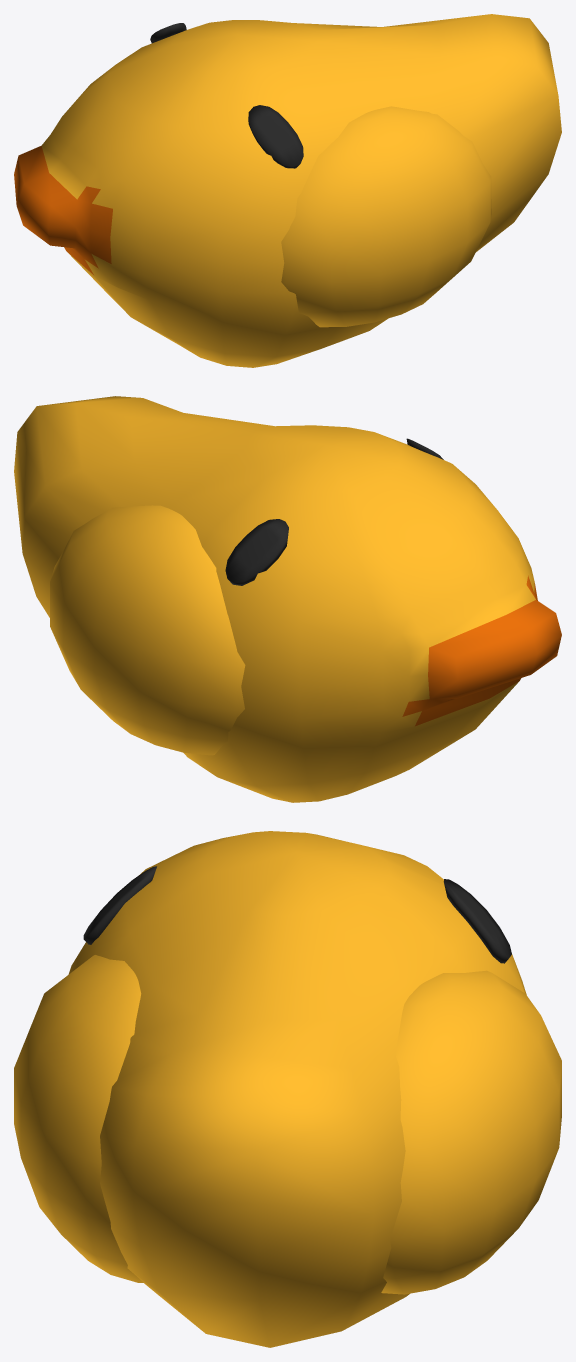
Rendered from Farmhouse_ROOM_duck_v02.glb.
3 renders of one model, top to bottom at view 1: azimuth 30°, elevation 25°; view 2: azimuth 150°, elevation 25°; view 3: azimuth 270°, elevation 25°, orthographic. The views are drawn at different scales.
Parts seen in each view (by area): view 1: Farmhouse_ROOM_duck_v02; view 2: Farmhouse_ROOM_duck_v02; view 3: Farmhouse_ROOM_duck_v02.
Part boxes in pixels (x1=…): Farmhouse_ROOM_duck_v02: x1=14, y1=14, x2=561, y2=367; Farmhouse_ROOM_duck_v02: x1=14, y1=396, x2=561, y2=802; Farmhouse_ROOM_duck_v02: x1=14, y1=831, x2=561, y2=1347.
Size of the model in its own units: 0.5045 by 0.2986 by 0.3407.
